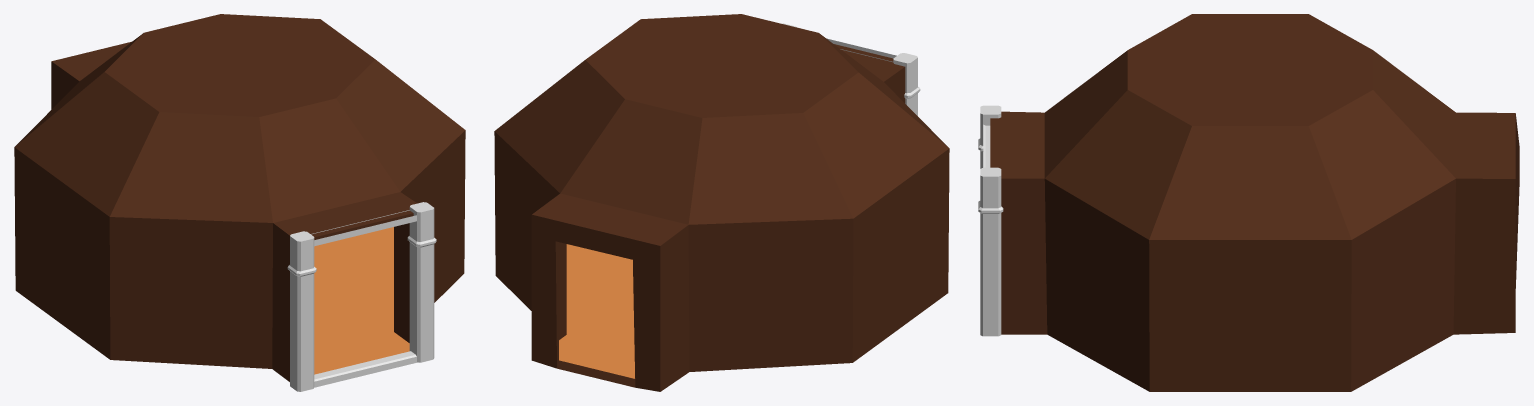
File: GRoom.fbx
3 views of the same model, side by side, from view 1: azimuth 30°, elevation 25°; view 2: azimuth 150°, elevation 25°; view 3: azimuth 270°, elevation 25° (orthographic). The views are drawn at different scales.
Parts seen in each view (by area): view 1: GrammophoneRoomU, Uebergang; view 2: GrammophoneRoomU, Uebergang; view 3: GrammophoneRoomU, Uebergang.
Boxes of the visible parts, bbox=[...] form: GrammophoneRoomU: bbox=[14, 14, 465, 381]; Uebergang: bbox=[287, 202, 436, 391]; GrammophoneRoomU: bbox=[494, 14, 949, 391]; Uebergang: bbox=[782, 23, 920, 115]; GrammophoneRoomU: bbox=[990, 14, 1519, 391]; Uebergang: bbox=[978, 105, 1003, 336].
Bounding box in the file's own units: 651 × 382 × 806.
